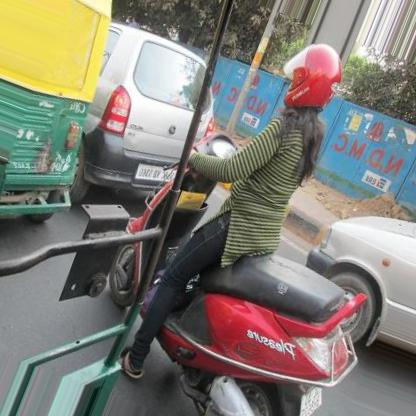with helmet: (281, 42, 345, 112)
